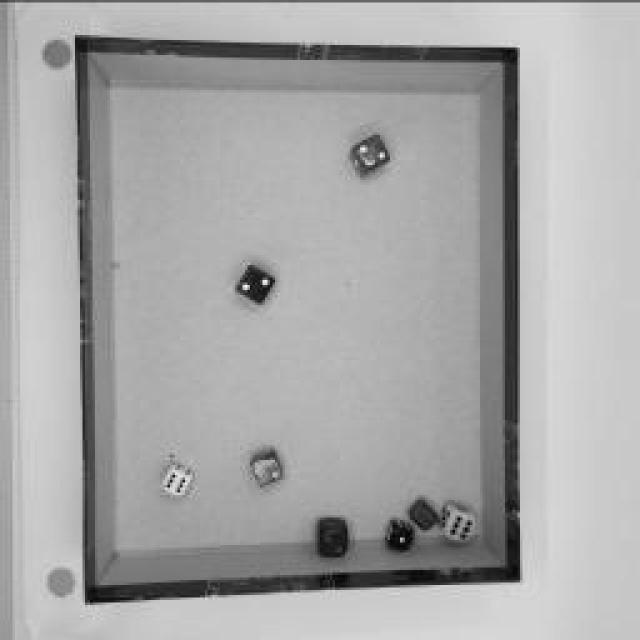dice_1: (384, 518, 416, 552)
dice_2: (232, 261, 278, 304), (346, 134, 392, 176), (312, 512, 350, 558), (246, 446, 286, 489)
dice_4: (409, 496, 439, 534)
dice_6: (439, 501, 476, 544), (164, 462, 194, 498)
